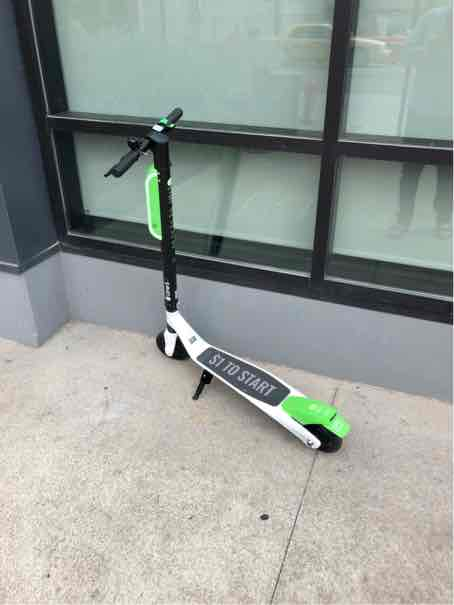scooter: (91, 90, 363, 459)
